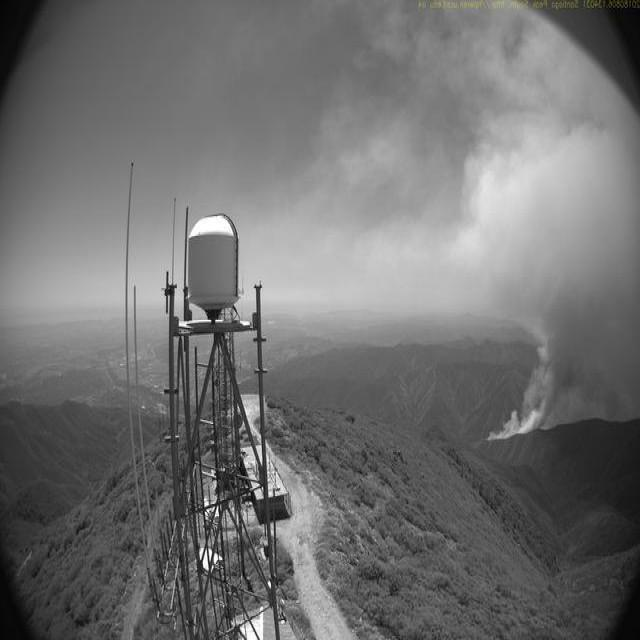Smoke: (479, 113, 640, 446)
